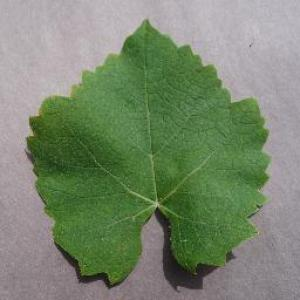Folha: (24, 18, 272, 288)
